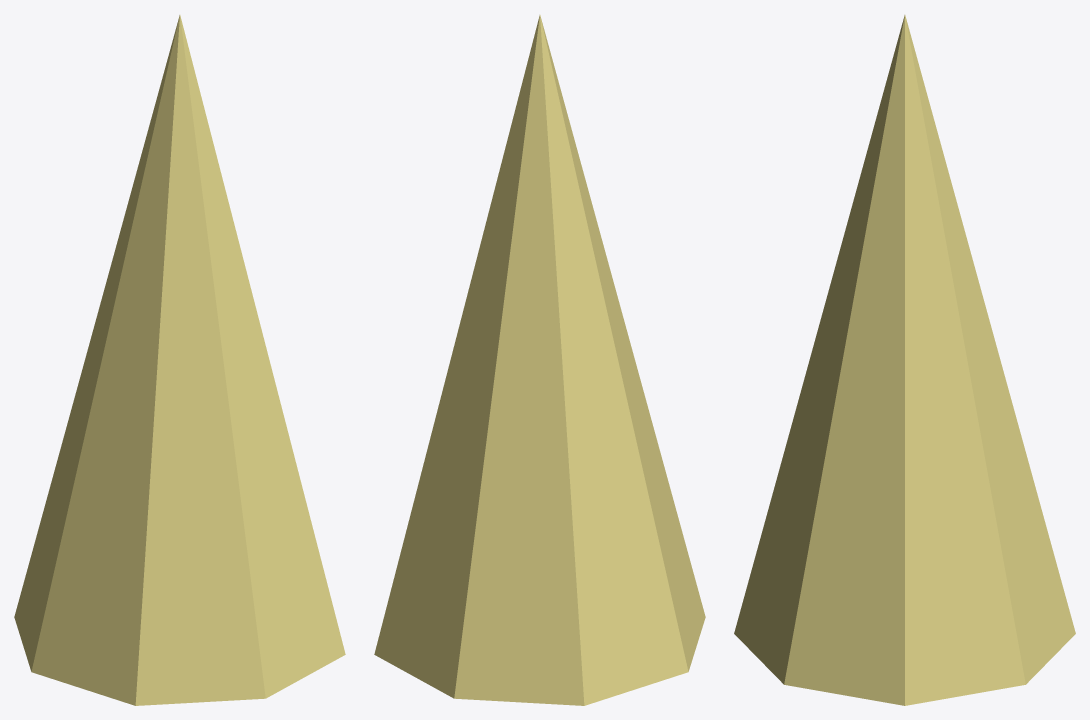
File: architect_drone.glb
3 renders of one model, left to right at view 1: azimuth 30°, elevation 25°; view 2: azimuth 150°, elevation 25°; view 3: azimuth 270°, elevation 25°, orthographic.
Visible parts, largest first — view 1: architect_drone; view 2: architect_drone; view 3: architect_drone.
Part boxes in pixels (<box>): architect_drone: <box>14,15,345,705</box>; architect_drone: <box>374,15,705,705</box>; architect_drone: <box>734,15,1075,705</box>.
Size of the model in its own units: 0.6 by 1.2 by 0.6.
